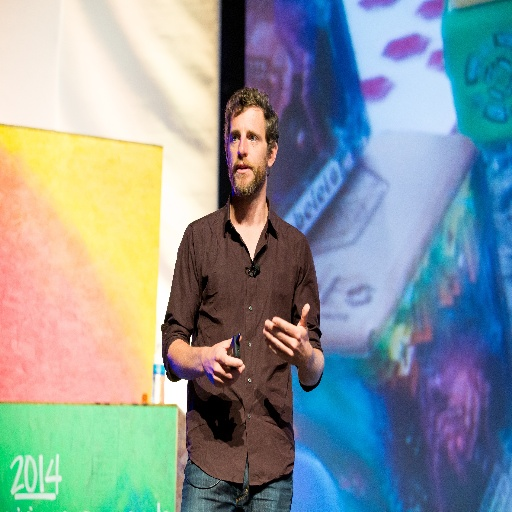hand: (267, 314, 317, 381), (202, 335, 245, 390)
